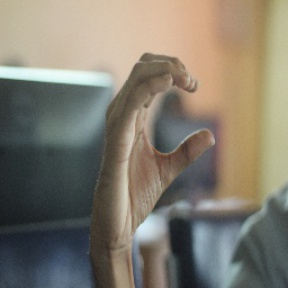C: (122, 52, 220, 175)
